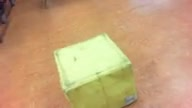cube: (54, 32, 138, 108)
